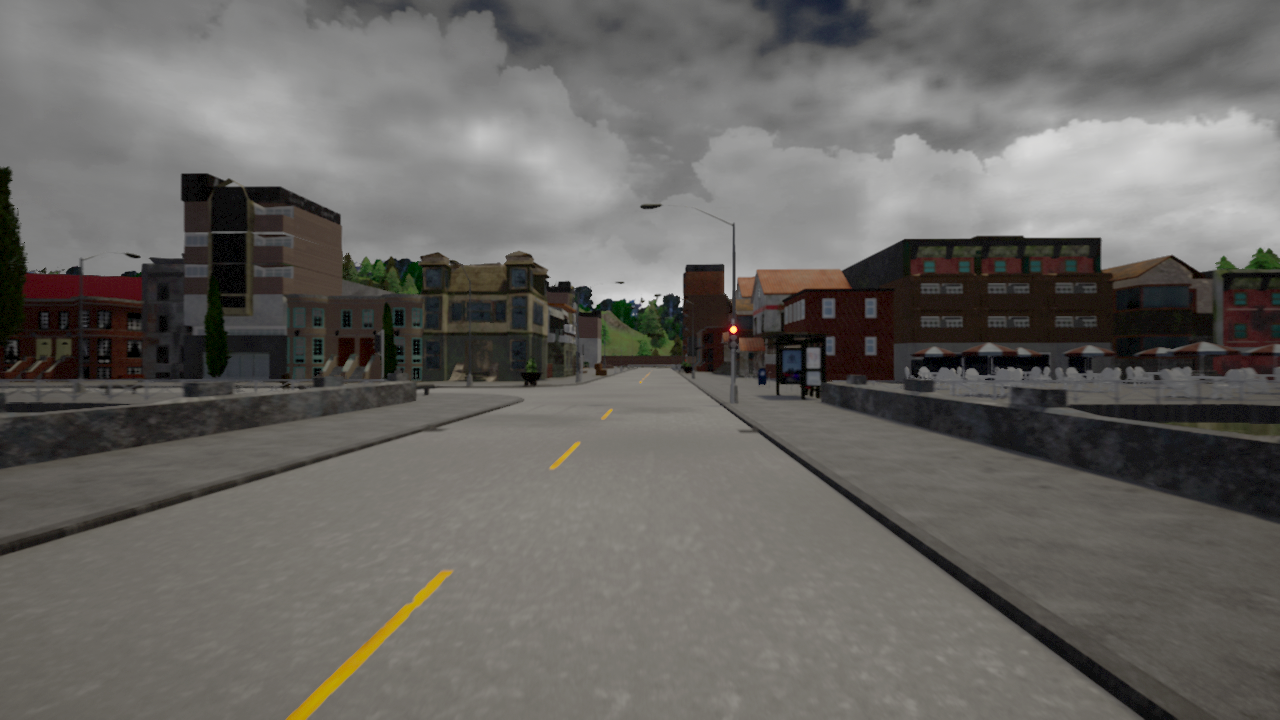red: (728, 324, 740, 350)
